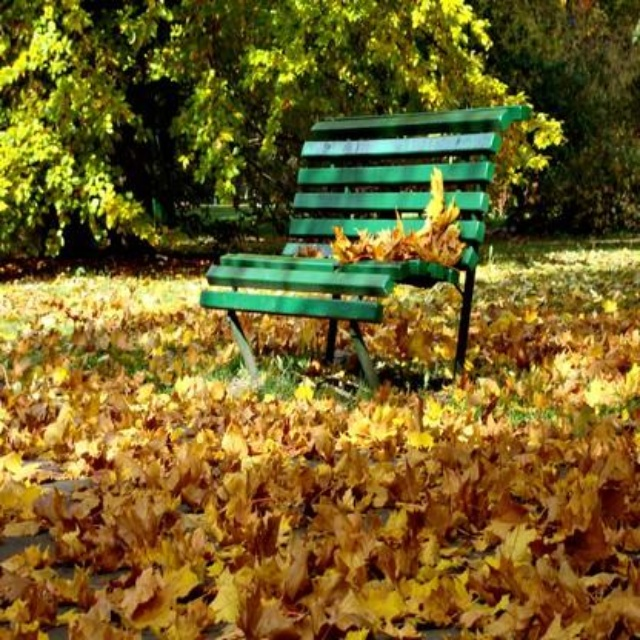obstacle: (191, 92, 526, 392)
